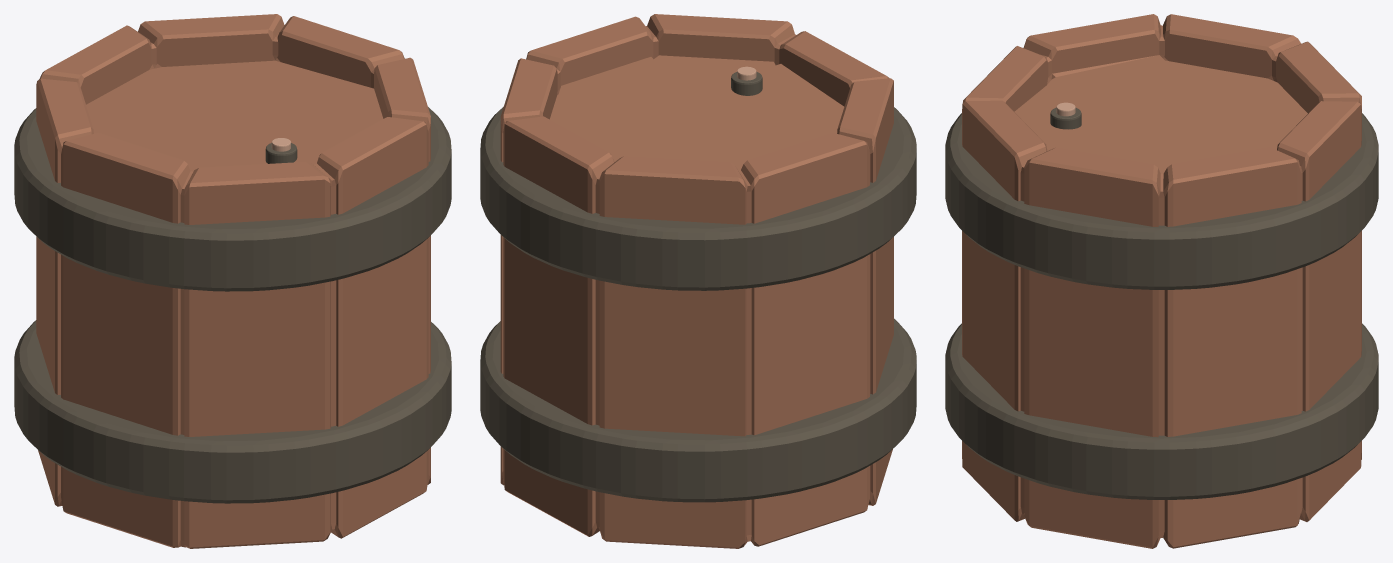
Rendered from barrel_2_garden.fbx.
3 views of the same model, side by side, from view 1: azimuth 30°, elevation 25°; view 2: azimuth 150°, elevation 25°; view 3: azimuth 270°, elevation 25° (orthographic).
Visible parts, largest first — view 1: barrel_2_garden, Cylinder.039; view 2: barrel_2_garden, Cylinder.039; view 3: barrel_2_garden, Cylinder.039.
Boxes of the visible parts, x1,y1,x2,y2 form: barrel_2_garden: (36,14,430,548); Cylinder.039: (14,107,451,503); barrel_2_garden: (500,14,893,548); Cylinder.039: (480,72,916,502); barrel_2_garden: (962,14,1361,548); Cylinder.039: (945,108,1378,499).
Size of the model in its own units: 74.31 by 69.8 by 74.31.
